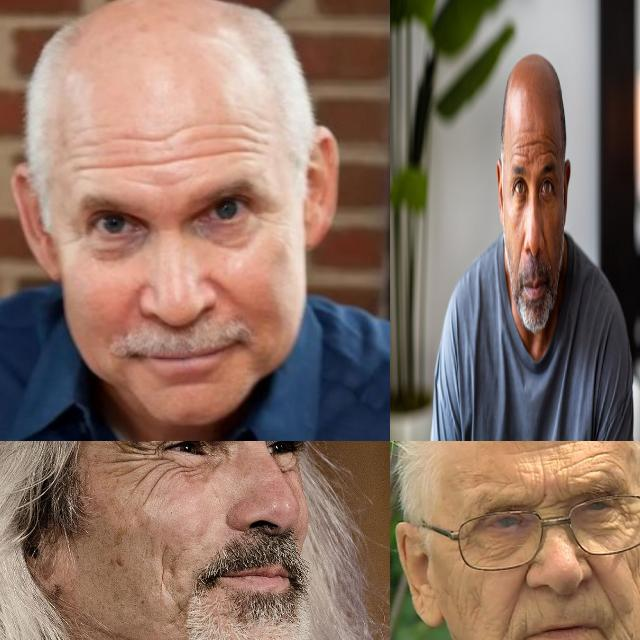crows_feet: (114, 441, 164, 476), (615, 502, 635, 528), (458, 524, 478, 550)
forehead: (220, 116, 264, 162), (130, 152, 200, 176), (124, 122, 178, 152), (76, 149, 124, 181), (189, 142, 227, 170), (474, 474, 518, 492), (533, 132, 556, 158), (580, 446, 616, 462), (574, 466, 608, 480), (533, 441, 571, 453), (512, 132, 526, 164), (536, 459, 552, 487), (573, 441, 605, 445)
frown_line: (536, 492, 570, 512)
gummy_smile: (508, 576, 530, 622), (589, 561, 613, 601), (542, 234, 552, 267), (517, 234, 525, 267)
masseter: (150, 545, 182, 601), (623, 557, 640, 592), (467, 584, 485, 614), (488, 631, 506, 640)
sad_smile: (596, 628, 622, 640)
